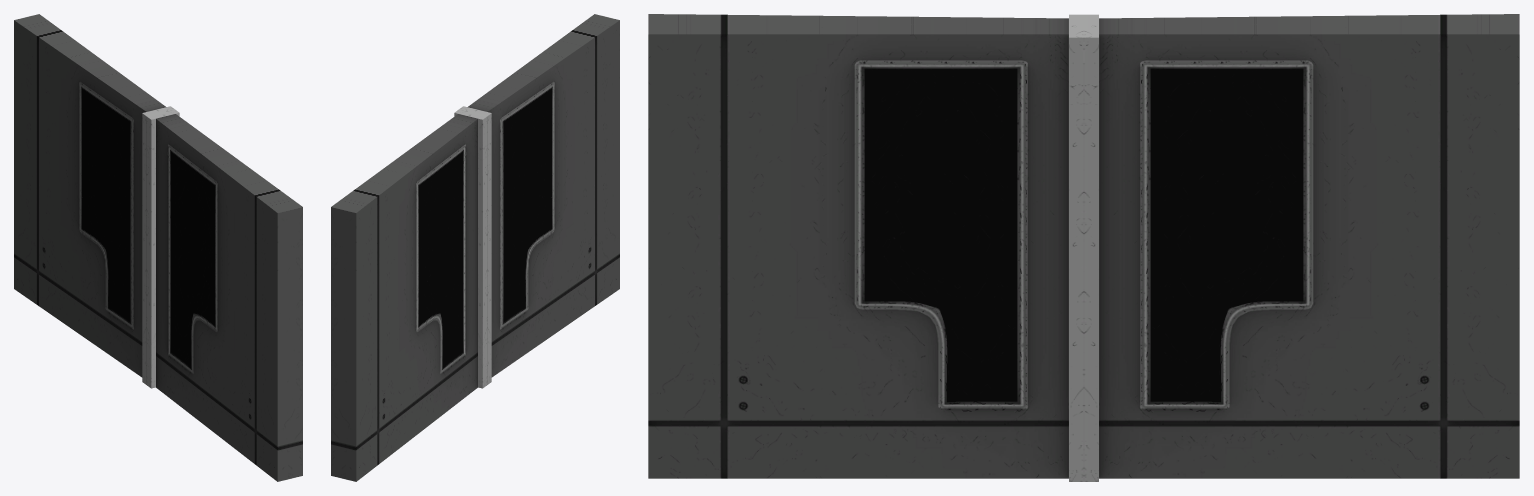
Rendered from Door01_gray_Closed.dae.
The picture shows the model from 3 angles, left to right: view 1: azimuth 30°, elevation 25°; view 2: azimuth 150°, elevation 25°; view 3: azimuth 270°, elevation 25°; orthographic projection. The views are drawn at different scales.
Visible parts, largest first — view 1: polySurface1; view 2: polySurface1; view 3: polySurface1.
Boxes of the visible parts, bbox=[...] form: polySurface1: bbox=[14, 14, 302, 481]; polySurface1: bbox=[331, 14, 619, 481]; polySurface1: bbox=[648, 14, 1519, 481].
Size of the model in its own units: 0.5145 by 4.5 by 8.
1 material, 1 textured.
